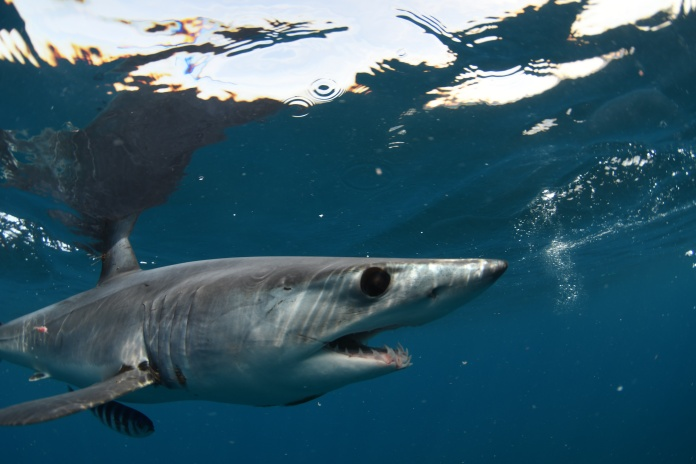Mako: (1, 210, 519, 435)
